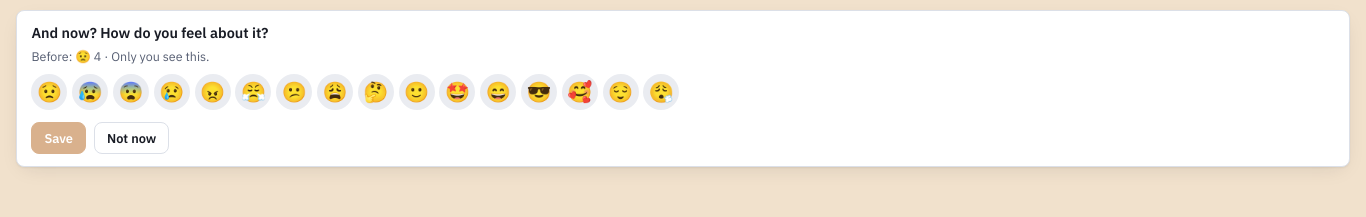
CheckInPrompt › asks 'And now?' on a later visit, and shows the shift once saved
Expected: the text "And now? How do you feel about it?" is shown, [31,22,268,43]
Click the button named "Calm".
click(620, 92)  # box [602,74,638,110]
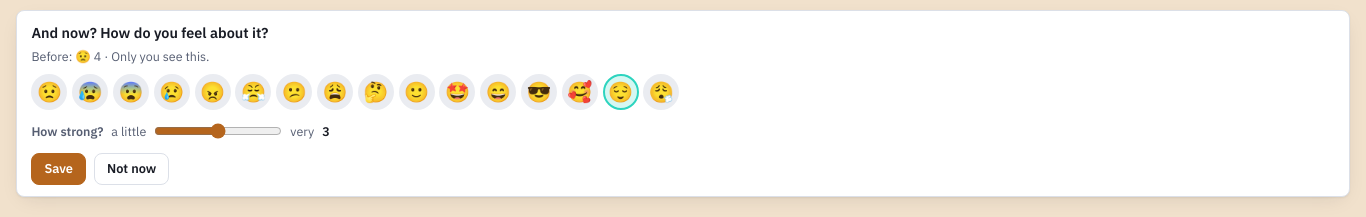
Set the slider to "2" at (190, 132), box [154,124,282,140]
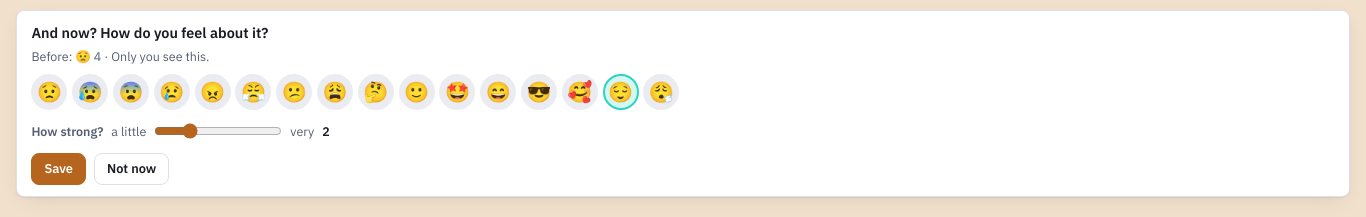
Click the button "Save".
click(59, 169)  # box [31,153,86,185]
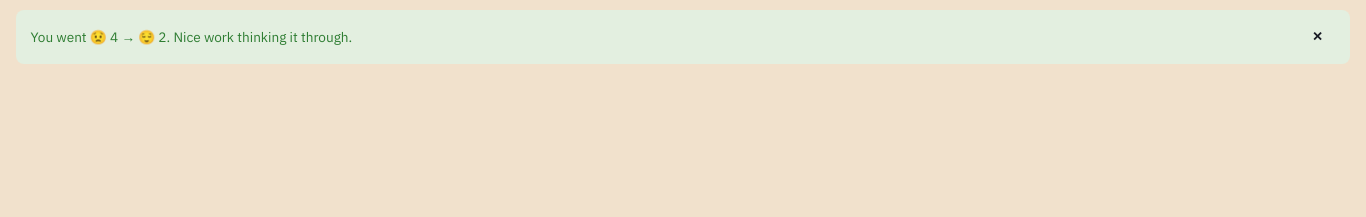
Expected: the message shows "😟 4 → 😌 2", [30,28,170,46]
